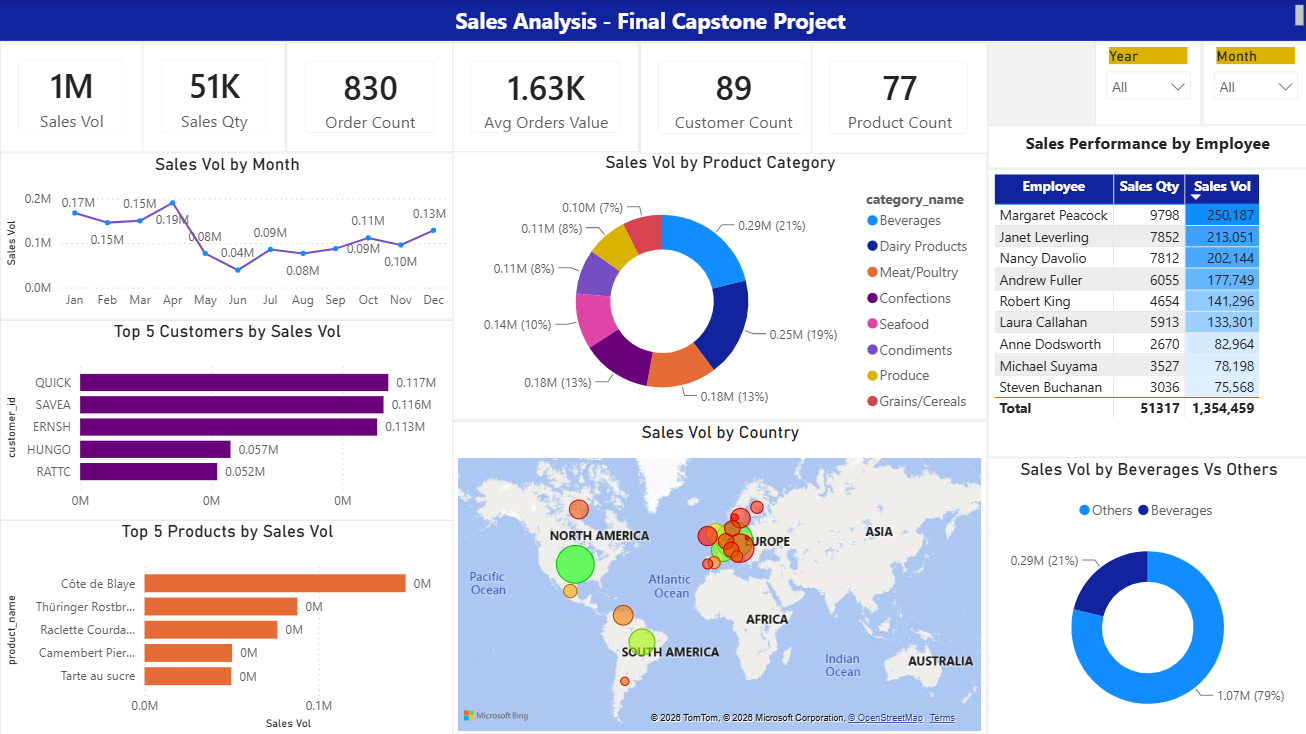

The dashboard page shown, as its layout file describes it:
{"tool":"powerbi","page":{"name":"Over View","canvas":[1280,720],"ordinal":0},"visuals":[{"type":"clusteredBarChart","title":"Top 5 Customers by Sales Vol","fields":{"Category":["Customer1.customer_id"],"Y":["1.Measures Table.Sales Vol"]},"box":[0,312.9,443.2,196.2],"z":0},{"type":"lineChart","title":"Sales Vol by Month","fields":{"Y":["1.Measures Table.Sales Vol"],"Category":["Calendar.Month Name"]},"box":[0,149.6,443.2,163.3],"z":1000},{"type":"donutChart","title":"Sales Vol by Product Category","fields":{"Category":["Product.category_name"],"Y":["1.Measures Table.Sales Vol"]},"box":[443.2,148.2,522.8,263.5],"z":2000},{"type":"actionButton","box":[0,0,100,40],"z":3000},{"type":"clusteredBarChart","title":"Top 5 Products by Sales Vol","fields":{"Category":["Product1.product_name"],"Y":["1.Measures Table.Sales Vol"]},"box":[0,509.1,443.2,211.3],"z":4000},{"type":"donutChart","title":"Sales Vol by Beverages Vs Others","fields":{"Category":["Product1.category_name_2"],"Y":["1.Measures Table.Sales Vol"]},"box":[966,447.3,314.2,273.1],"z":5000},{"type":"textbox","box":[0,0,1280.3,40.4],"z":6000},{"type":"cardVisual","fields":{"Data":["1.Measures Table.Sales Vol"]},"box":[0,39.8,140,108.4],"z":7000},{"type":"cardVisual","fields":{"Data":["1.Measures Table.Sales Qty"]},"box":[140,39.8,140,108.4],"z":8000},{"type":"cardVisual","fields":{"Data":["1.Measures Table.Order Count"]},"box":[279.9,41.2,163.3,107],"z":9000},{"type":"cardVisual","fields":{"Data":["1.Measures Table.Avg Orders Count"]},"box":[443.2,41.2,182.5,107],"z":10000},{"type":"cardVisual","fields":{"Data":["Count(Sale data.customer_id)"]},"box":[625.7,41.2,182.5,108.4],"z":11000},{"type":"cardVisual","fields":{"Data":["CountNonNull(Product.product_id)"]},"box":[793.1,41.2,172.9,108.4],"z":12000},{"type":"map","fields":{"Category":["Customer.ship_country"],"Size":["1.Measures Table.Sales Vol"]},"box":[443.2,411.7,522.8,308.7],"z":13000},{"type":"slicer","fields":{"Values":["Calendar.Month Name"]},"box":[1176,39.8,104.3,82.3],"z":14000},{"type":"tableEx","fields":{"Values":["Employee.employee_name","1.Measures Table.Sales Qty","1.Measures Table.Sales Vol"]},"box":[966,164.7,314.2,282.7],"z":15000},{"type":"textbox","box":[966,122.1,314.2,42.5],"z":16000},{"type":"slicer","fields":{"Values":["Calendar.Year"]},"box":[1071.7,39.8,104.3,82.3],"z":17000}]}

Visuals, with their boxes in screenshot pixels (x1, y1, x2, y2), scaled from the page's 1280x720 canvas onto the 1306x734 screenshot:
"Top 5 Customers by Sales Vol" clusteredBarChart: {"x1": 0, "y1": 319, "x2": 452, "y2": 519}
"Sales Vol by Month" lineChart: {"x1": 0, "y1": 153, "x2": 452, "y2": 319}
"Sales Vol by Product Category" donutChart: {"x1": 452, "y1": 151, "x2": 986, "y2": 420}
actionButton: {"x1": 0, "y1": 0, "x2": 102, "y2": 41}
"Top 5 Products by Sales Vol" clusteredBarChart: {"x1": 0, "y1": 519, "x2": 452, "y2": 733}
"Sales Vol by Beverages Vs Others" donutChart: {"x1": 986, "y1": 456, "x2": 1305, "y2": 733}
textbox: {"x1": 0, "y1": 0, "x2": 1305, "y2": 41}
cardVisual - 1.Measures Table.Sales Vol: {"x1": 0, "y1": 41, "x2": 143, "y2": 151}
cardVisual - 1.Measures Table.Sales Qty: {"x1": 143, "y1": 41, "x2": 286, "y2": 151}
cardVisual - 1.Measures Table.Order Count: {"x1": 286, "y1": 42, "x2": 452, "y2": 151}
cardVisual - 1.Measures Table.Avg Orders Count: {"x1": 452, "y1": 42, "x2": 638, "y2": 151}
cardVisual - Count(Sale data.customer_id): {"x1": 638, "y1": 42, "x2": 825, "y2": 153}
cardVisual - CountNonNull(Product.product_id): {"x1": 809, "y1": 42, "x2": 986, "y2": 153}
map - Customer.ship_country x 1.Measures Table.Sales Vol: {"x1": 452, "y1": 420, "x2": 986, "y2": 733}
slicer - Calendar.Month Name: {"x1": 1200, "y1": 41, "x2": 1305, "y2": 124}
tableEx - Employee.employee_name x 1.Measures Table.Sales Qty: {"x1": 986, "y1": 168, "x2": 1305, "y2": 456}
textbox: {"x1": 986, "y1": 124, "x2": 1305, "y2": 168}
slicer - Calendar.Year: {"x1": 1093, "y1": 41, "x2": 1200, "y2": 124}
